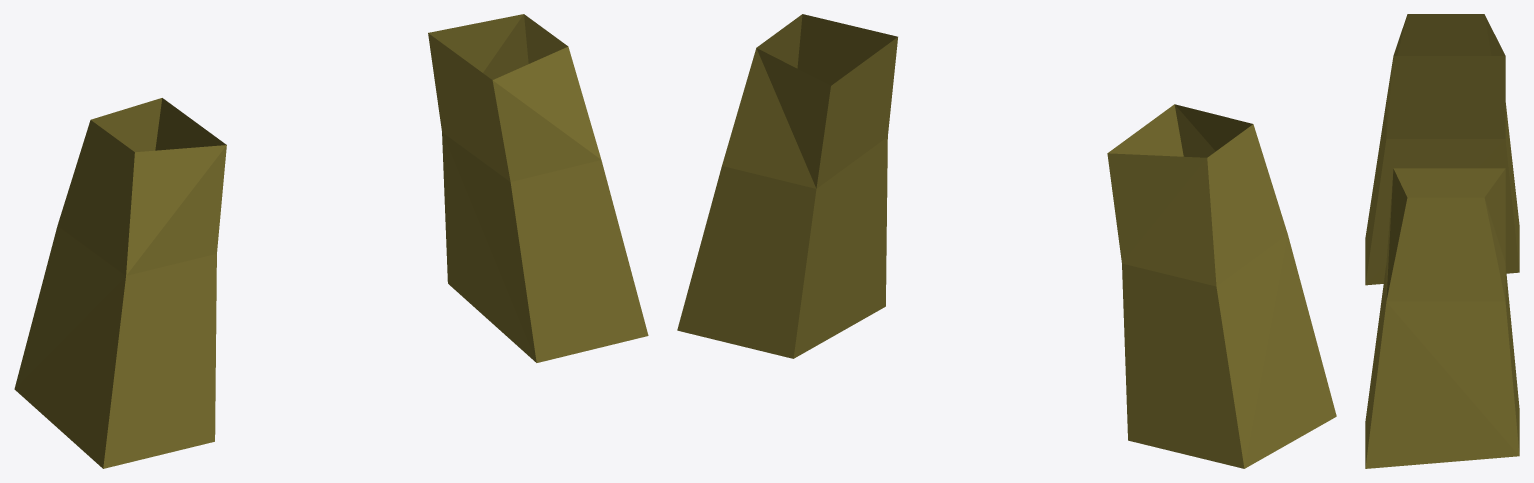
File: npc_world_shade_6_2.obj
The picture shows the model from 3 angles, left to right: view 1: azimuth 30°, elevation 25°; view 2: azimuth 150°, elevation 25°; view 3: azimuth 270°, elevation 25°; orthographic projection. The views are drawn at different scales.
Size of the model in its own units: 0.6094 by 0.3047 by 0.1719.
